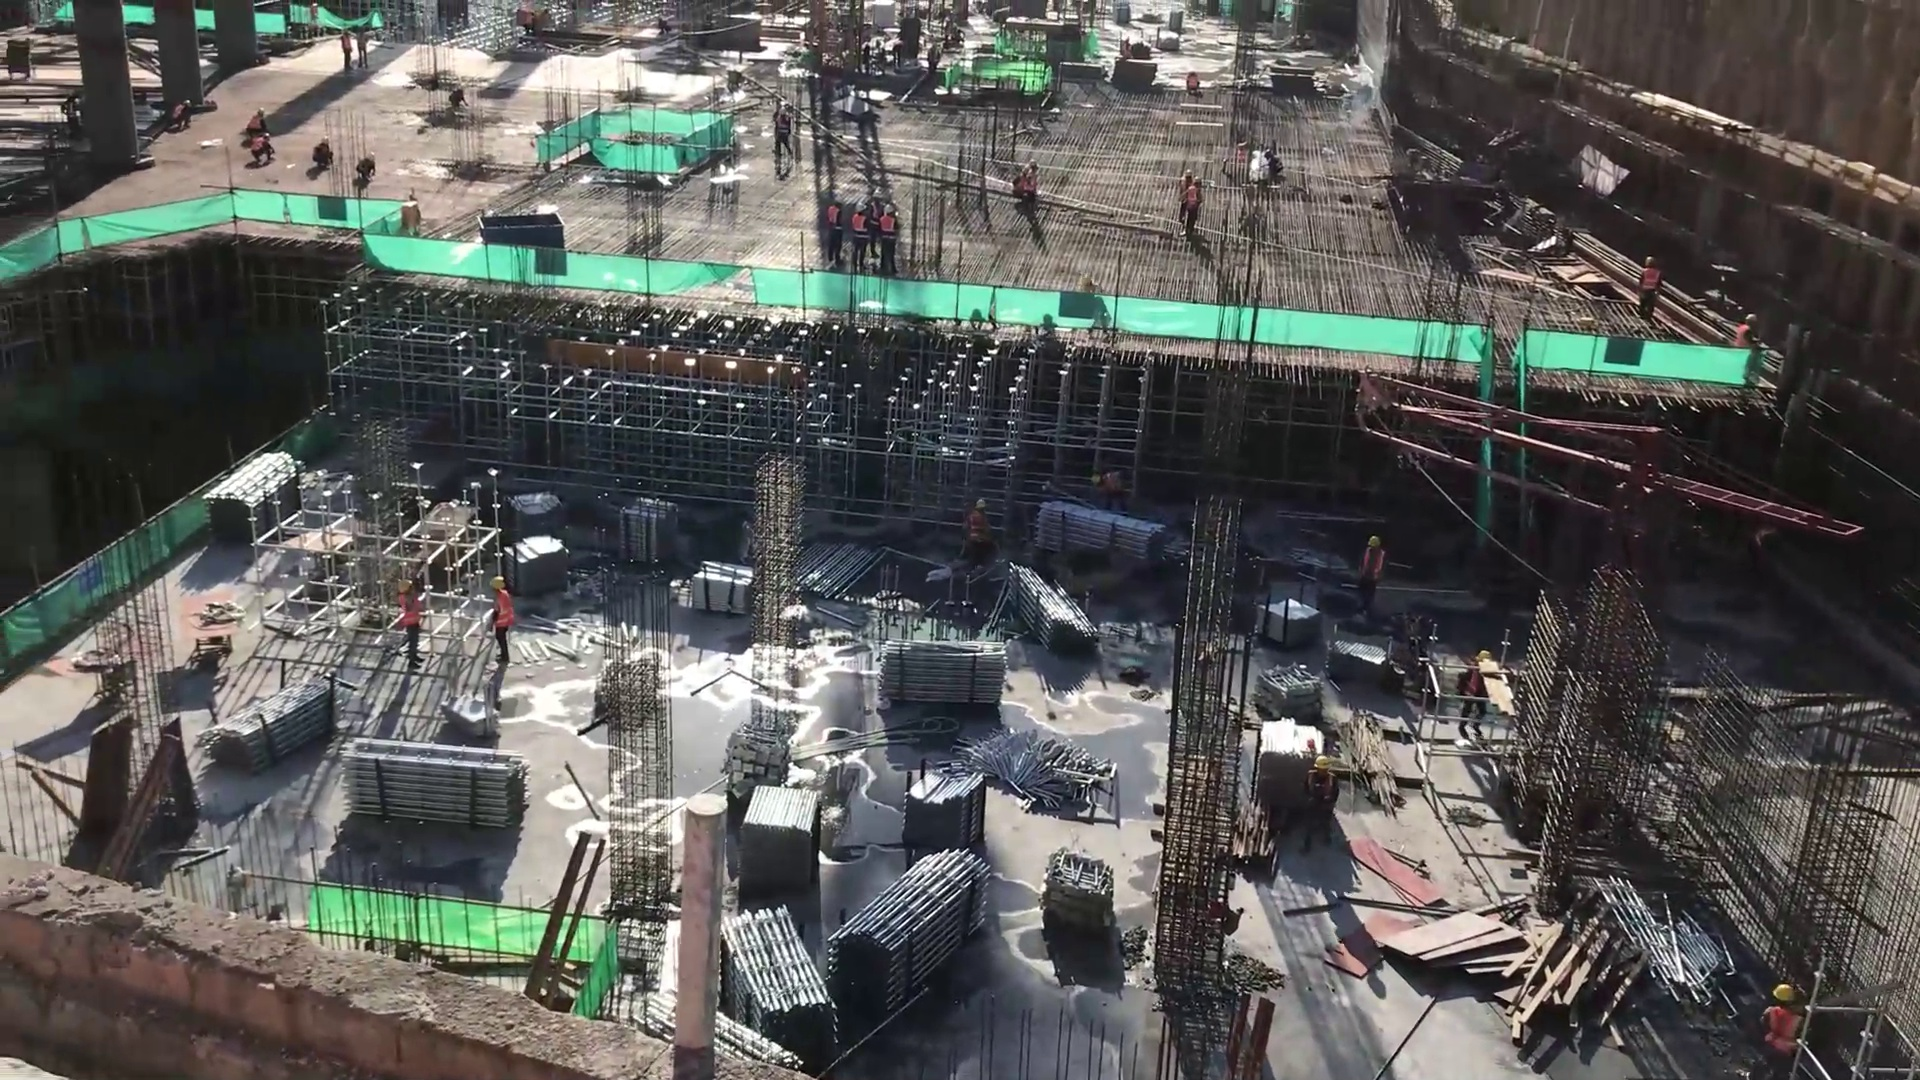helmet: (1770, 983, 1797, 1006), (1309, 753, 1334, 773), (486, 573, 511, 592), (851, 197, 870, 216), (395, 577, 416, 597), (971, 496, 989, 514), (317, 132, 333, 151), (1743, 311, 1760, 331), (1365, 533, 1382, 551), (879, 203, 899, 219), (1020, 157, 1037, 174), (1088, 472, 1102, 490), (364, 151, 378, 167), (1642, 252, 1657, 267), (260, 129, 274, 142), (832, 193, 846, 206), (255, 103, 267, 118), (1191, 174, 1202, 187), (1181, 167, 1194, 178), (183, 97, 193, 110)
person: (1748, 981, 1804, 1080), (1298, 749, 1341, 857), (477, 569, 523, 669), (392, 573, 432, 673), (1352, 529, 1391, 614), (960, 489, 1000, 569), (1633, 249, 1665, 324), (1086, 465, 1135, 516), (876, 200, 905, 276), (1183, 169, 1210, 238), (1732, 302, 1761, 366), (851, 198, 874, 275), (823, 191, 847, 267), (1010, 156, 1042, 211), (304, 129, 339, 178), (168, 94, 201, 137), (240, 101, 272, 142), (248, 128, 279, 167), (352, 151, 382, 190), (1172, 165, 1198, 195)
vest: (1759, 1005, 1801, 1056), (1305, 773, 1334, 811), (491, 595, 516, 633), (397, 593, 422, 629), (966, 517, 995, 547), (1361, 550, 1384, 584), (876, 213, 900, 247), (1640, 267, 1660, 304), (849, 215, 871, 247), (1182, 186, 1203, 215), (1017, 174, 1040, 199), (1105, 470, 1125, 497), (825, 203, 842, 235), (1734, 323, 1751, 353)
